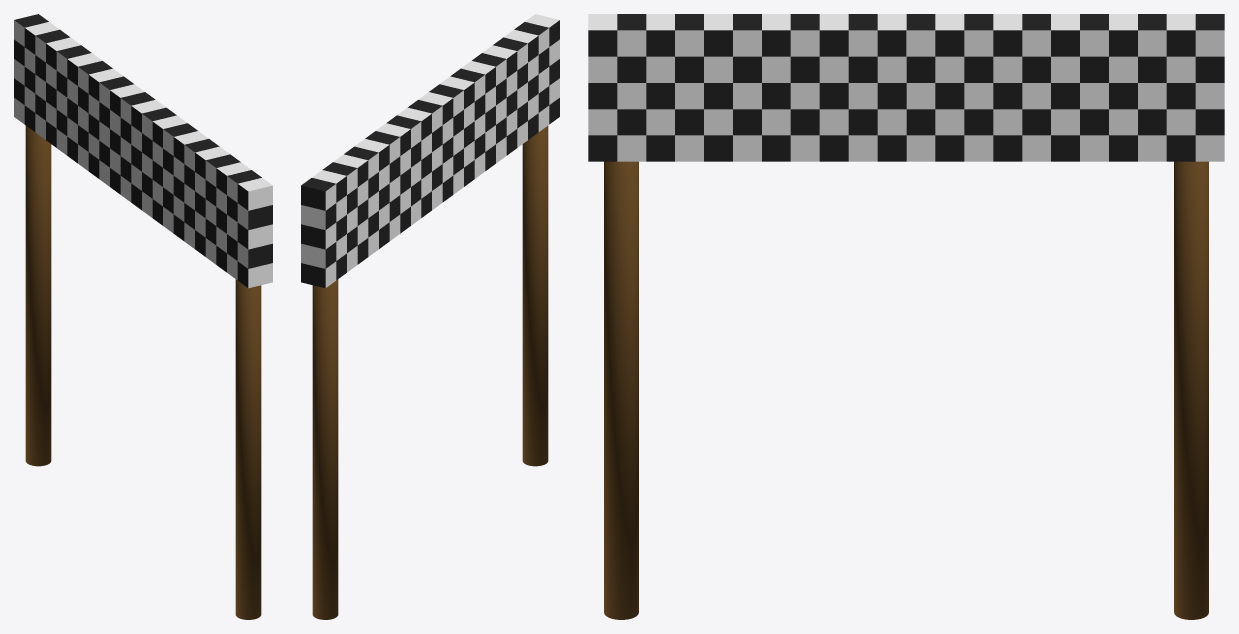
File: meta.fbx
3 renders of one model, left to right at view 1: azimuth 30°, elevation 25°; view 2: azimuth 150°, elevation 25°; view 3: azimuth 270°, elevation 25°, orthographic. The views are drawn at different scales.
Visible parts, largest first — view 1: Cylinder; view 2: Cylinder; view 3: Cylinder.
Part boxes in pixels (bbox=[...]): Cylinder: bbox=[14, 14, 272, 619]; Cylinder: bbox=[301, 14, 559, 619]; Cylinder: bbox=[588, 14, 1224, 619].
Size of the model in its own units: 53.14 by 898 by 877.
Materials: 2 (2 with a texture image).
